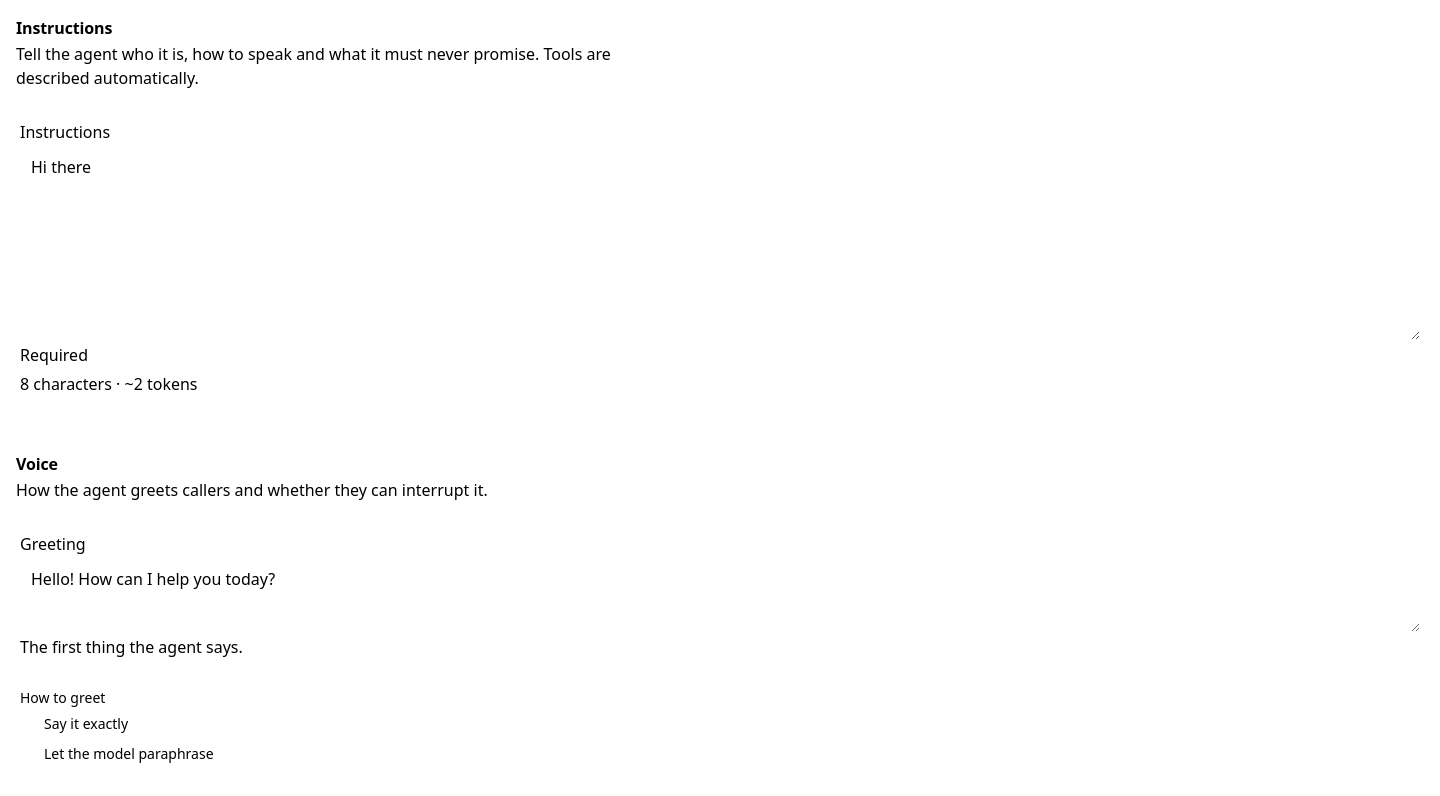
InstructionsTab › counts characters and estimates tokens as the instructions change
Expected: the text "8 characters · ~2 tokens" is shown, [20, 372, 198, 396]
Replace the text in the text box labelled "Instructions" with "0123456789". click: (720, 244)
box: [20, 148, 1420, 340]
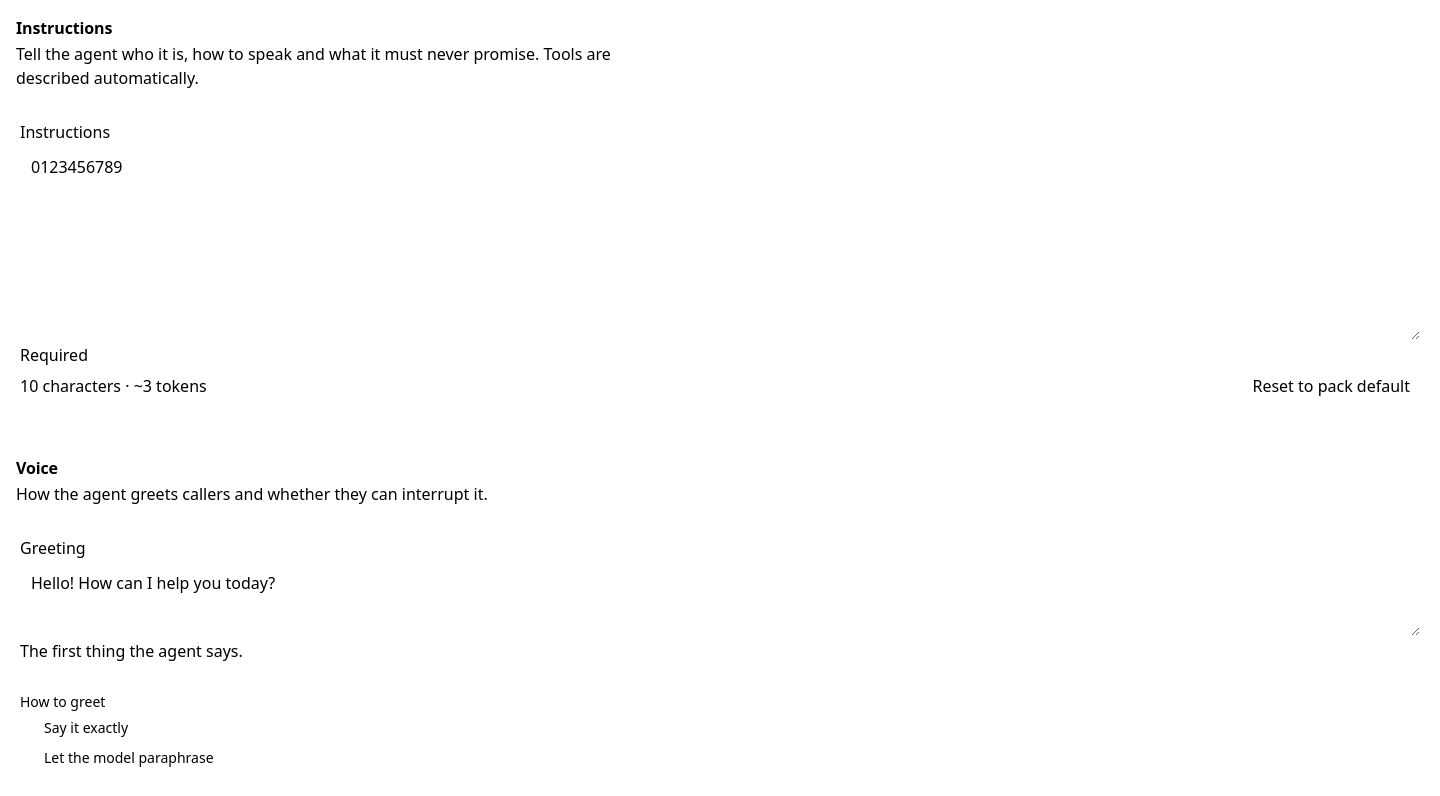
Expected: the text "10 characters · ~3 tokens" is shown, [20, 374, 207, 398]
